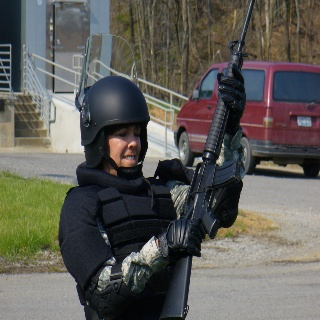rifle: (158, 1, 259, 320)
